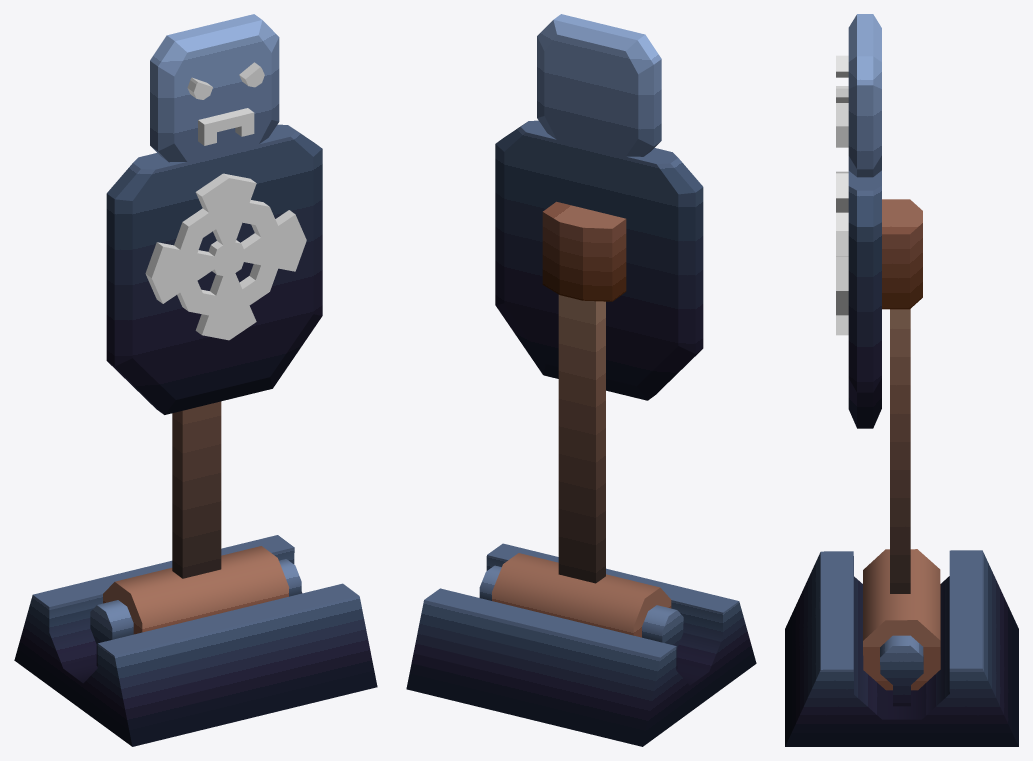
3 renders of one model, left to right at view 1: azimuth 30°, elevation 25°; view 2: azimuth 150°, elevation 25°; view 3: azimuth 270°, elevation 25°, orthographic. The views are drawn at different scales.
Parts seen in each view (by area): view 1: rama, podstawka, gl; view 2: rama, podstawka; view 3: podstawka, rama, gl.
Part boxes in pixels (x1,y1,x2,y2): rama: (103,14,322,634); podstawka: (14,535,377,746); gl: (145,62,306,340); rama: (492,14,703,637); podstawka: (406,543,756,746); podstawka: (785,550,1018,746); rama: (848,14,940,690); gl: (836,55,848,335).
Bounding box in the file's own units: 328 × 843 × 273.
